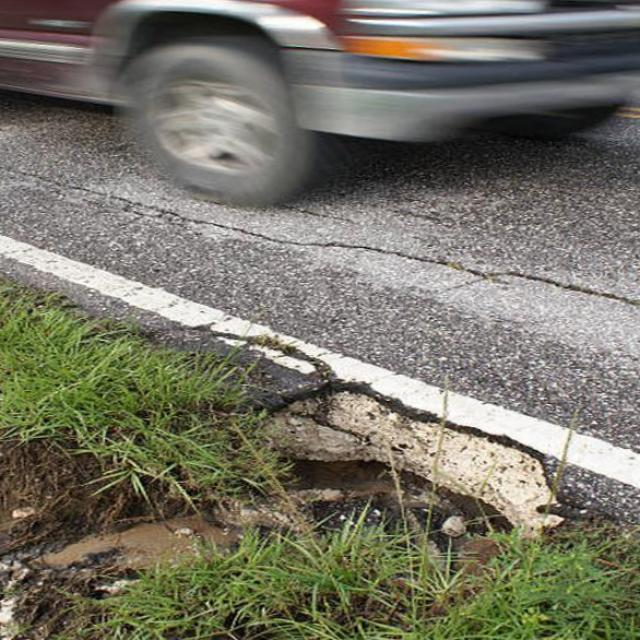Pinggir: (206, 337, 597, 569)
